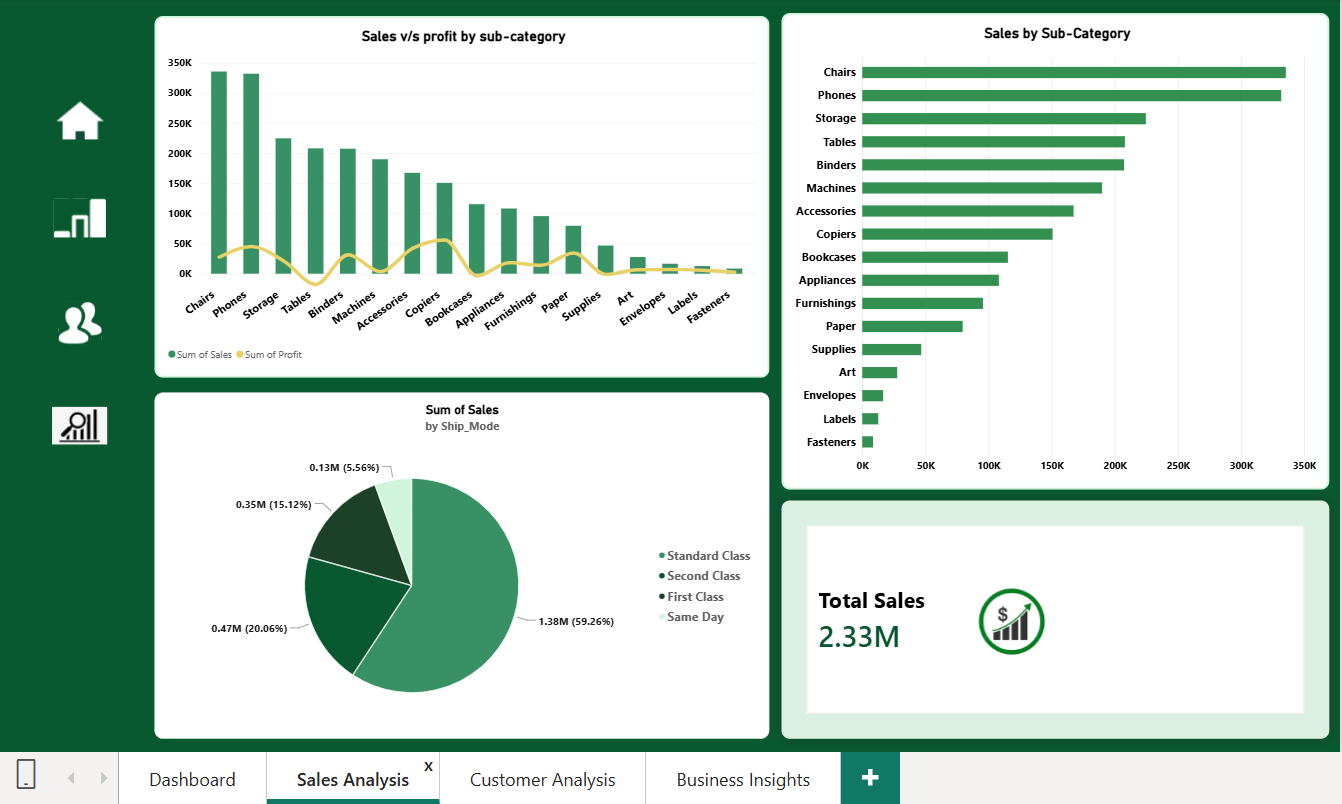

This screenshot's page, from the dashboard's own definition file:
{"tool":"powerbi","page":{"name":"Sales Analysis","canvas":[1920,1080],"ordinal":1},"visuals":[{"type":"clusteredBarChart","title":"Sales by Sub-Category","fields":{"Category":["superstore_project orders.Sub_Category"],"Y":["Sum(superstore_project orders.Sales)"]},"box":[1119,21.5,785,682.4],"z":0},{"type":"actionButton","box":[64.4,283.9,100.2,59.6],"z":1000},{"type":"actionButton","box":[64.4,133.6,100.2,69.2],"z":2000},{"type":"actionButton","box":[64.4,429.5,100.2,71.6],"z":3000},{"type":"actionButton","box":[54.9,565.5,116.9,95.4],"z":4000},{"type":"lineClusteredColumnComboChart","title":"Sales v/s profit by sub-category","fields":{"Category":["superstore_project orders.Sub_Category"],"Y":["Sum(superstore_project orders.Sales)"],"Y2":["Sum(superstore_project orders.Profit)"]},"box":[221.9,26.2,880.4,517.7],"z":5000},{"type":"pieChart","fields":{"Category":["superstore_project orders.Ship_Mode"],"Y":["Sum(superstore_project orders.Sales)"]},"box":[221.9,565.5,880.4,496.3],"z":6000},{"type":"cardVisual","fields":{"Data":["superstore_project orders.Total Sales"]},"box":[1119,720.5,785,341.2],"z":7000},{"type":"actionButton","box":[1386.2,825.5,126.5,136],"z":8000}]}

Visuals, with their boxes on the page's 1920x1080 design canvas (x1, y1, x2, y2). These are canvas units, not pixel positions in the 1342x804 screenshot, which may show the page scaled, cropped or inside an application window:
"Sales by Sub-Category" clusteredBarChart: x1=1119, y1=22, x2=1904, y2=704
actionButton: x1=64, y1=284, x2=165, y2=344
actionButton: x1=64, y1=134, x2=165, y2=203
actionButton: x1=64, y1=430, x2=165, y2=501
actionButton: x1=55, y1=566, x2=172, y2=661
"Sales v/s profit by sub-category" lineClusteredColumnComboChart: x1=222, y1=26, x2=1102, y2=544
pieChart - superstore_project orders.Ship_Mode x Sum(superstore_project orders.Sales): x1=222, y1=566, x2=1102, y2=1062
cardVisual - superstore_project orders.Total Sales: x1=1119, y1=720, x2=1904, y2=1062
actionButton: x1=1386, y1=826, x2=1513, y2=962
